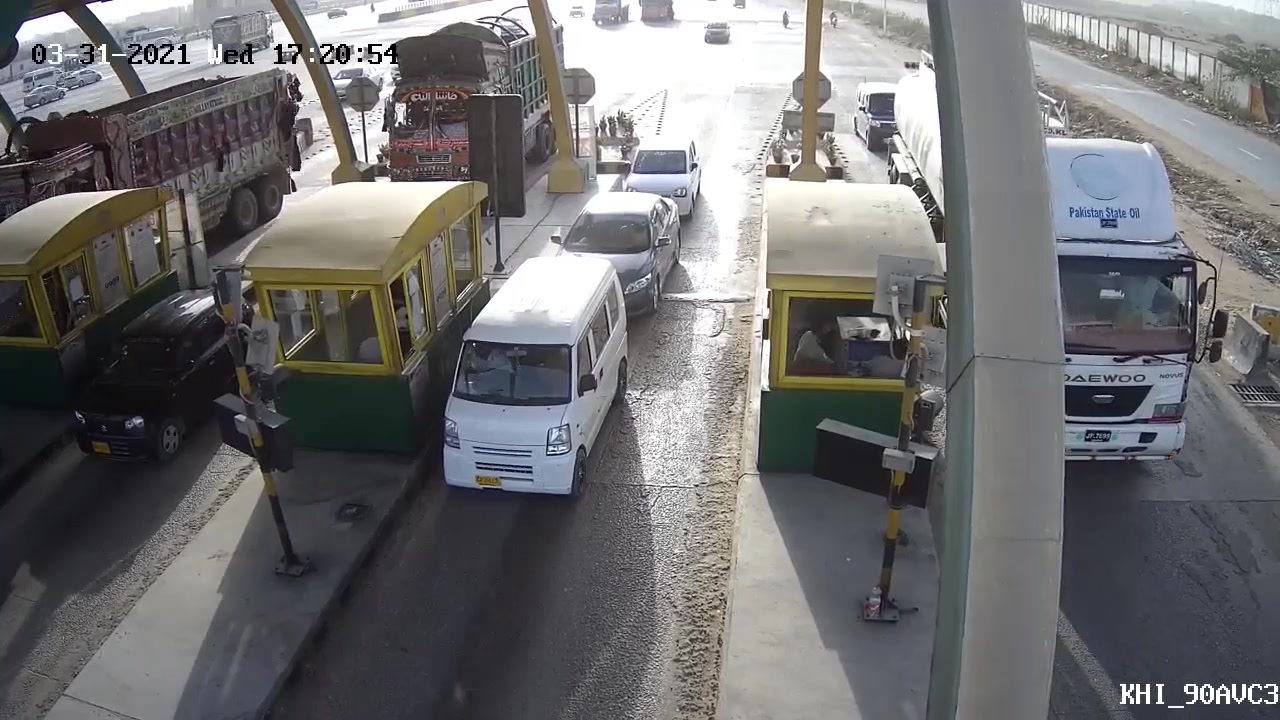F1: (426, 251, 635, 509)
